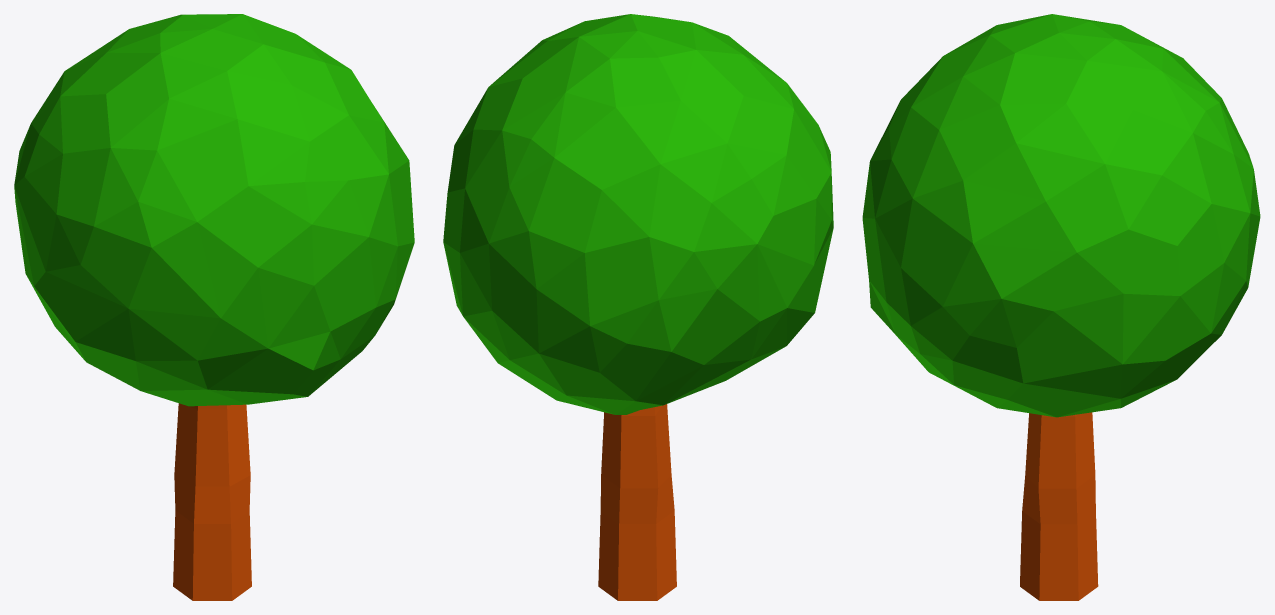
The model's file is CienkieDrzewov3.fbx.
The picture shows the model from 3 angles, left to right: view 1: azimuth 30°, elevation 25°; view 2: azimuth 150°, elevation 25°; view 3: azimuth 270°, elevation 25°; orthographic projection.
Parts seen in each view (by area): view 1: Kula ico, Walec; view 2: Kula ico, Walec; view 3: Kula ico, Walec.
Part boxes in pixels (x1,y1,x2,y2): Kula ico: (14, 14, 414, 406); Walec: (173, 403, 251, 600); Kula ico: (443, 14, 833, 414); Walec: (598, 404, 676, 600); Kula ico: (862, 14, 1260, 417); Walec: (1020, 412, 1098, 600).
Bounding box in the file's own units: 999 × 1559 × 1015.
